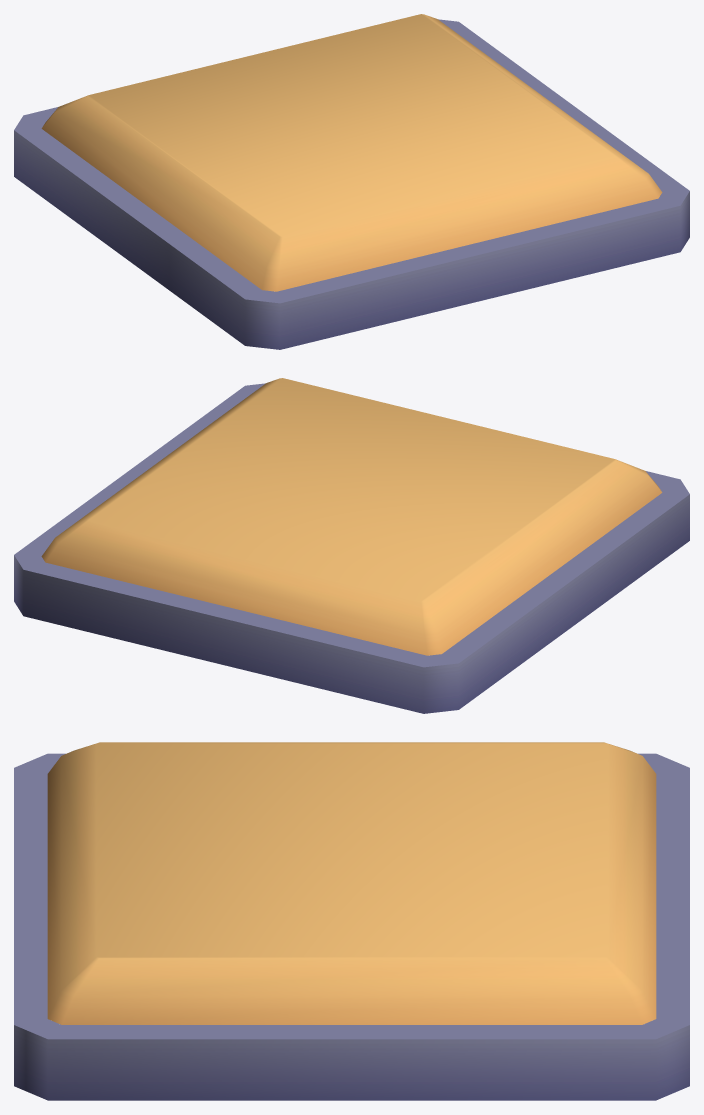
File: button-floor-square.glb
3 views of the same model, one above another, from view 1: azimuth 30°, elevation 25°; view 2: azimuth 150°, elevation 25°; view 3: azimuth 270°, elevation 25° (orthographic). The views are drawn at different scales.
Visible parts, largest first — view 1: button, button-floor-square; view 2: button, button-floor-square; view 3: button, button-floor-square.
Part boxes in pixels (x1,y1,x2,y2): button: [41, 14, 662, 291]; button-floor-square: [14, 19, 689, 349]; button: [41, 378, 662, 655]; button-floor-square: [14, 383, 689, 713]; button: [47, 742, 656, 1024]; button-floor-square: [14, 753, 689, 1100].
Bounding box in the file's own units: 1 × 0.175 × 1.
1 material, 1 textured.
